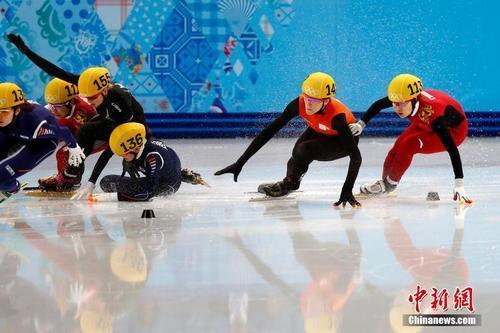Fall-Detected: (74, 120, 211, 206)
